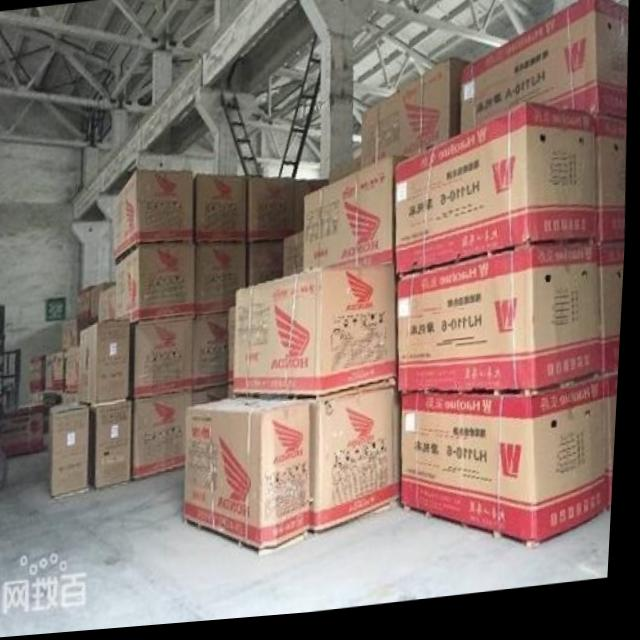box: (396, 109, 598, 281), (406, 388, 616, 549), (400, 253, 605, 400), (462, 3, 629, 139), (237, 271, 400, 399), (188, 401, 315, 552), (315, 395, 398, 537), (306, 161, 409, 275), (363, 63, 468, 172), (115, 173, 195, 263), (117, 247, 198, 324), (137, 393, 195, 482), (250, 182, 331, 243), (134, 320, 195, 400), (82, 321, 131, 404), (52, 403, 93, 497), (93, 402, 136, 489), (599, 125, 628, 251), (195, 177, 248, 245), (198, 246, 248, 318), (603, 255, 627, 383), (196, 316, 231, 390), (4, 413, 48, 455), (249, 245, 286, 289), (611, 384, 623, 516), (397, 393, 406, 506), (94, 283, 118, 320), (287, 238, 305, 280), (196, 388, 231, 408), (33, 355, 49, 394), (102, 287, 118, 322), (70, 355, 83, 394), (232, 311, 238, 384), (65, 319, 80, 348), (82, 287, 93, 321), (57, 353, 67, 390)
